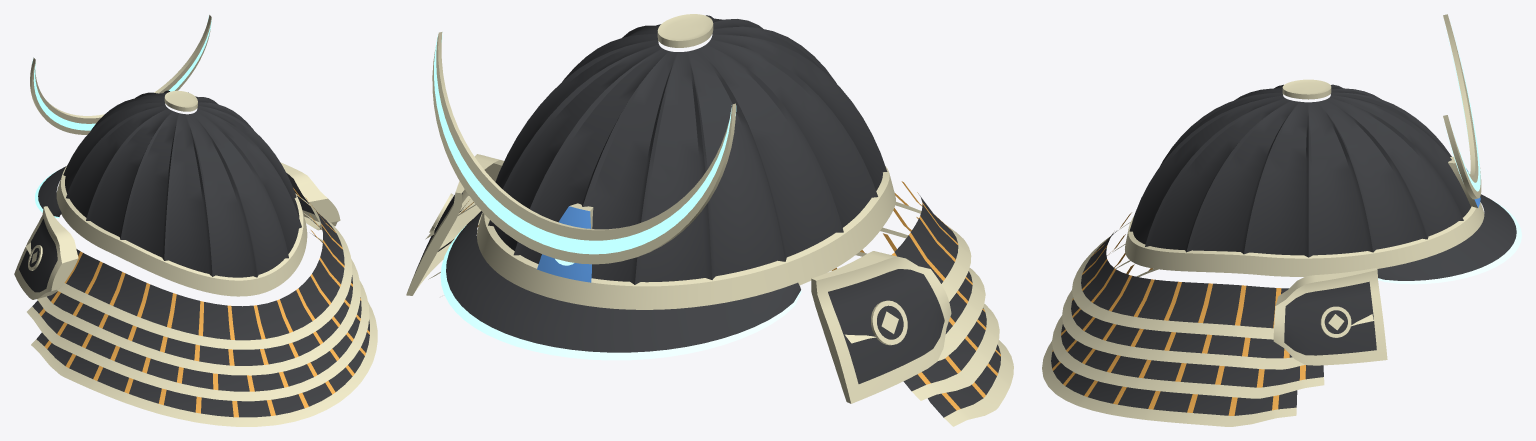
File: ronin_kabuto_m.glb
3 renders of one model, left to right at view 1: azimuth 30°, elevation 25°; view 2: azimuth 150°, elevation 25°; view 3: azimuth 270°, elevation 25°, orthographic. The views are drawn at different scales.
Parts seen in each view (by area): view 1: ronin_kabuto_shikoro, ronin_kabuto_bowl, ronin_kabuto_band, ronin_kabuto_wings, ronin_kabuto_crest, ronin_kabuto_peak; view 2: ronin_kabuto_bowl, ronin_kabuto_peak, ronin_kabuto_wings, ronin_kabuto_crest, ronin_kabuto_shikoro, ronin_kabuto_band; view 3: ronin_kabuto_bowl, ronin_kabuto_shikoro, ronin_kabuto_wings, ronin_kabuto_band, ronin_kabuto_peak, ronin_kabuto_crest.
Boxes of the visible parts, x1,y1,x2,y2 form: ronin_kabuto_shikoro: (25,187,377,426); ronin_kabuto_bowl: (63,90,301,277); ronin_kabuto_band: (56,166,307,296); ronin_kabuto_wings: (14,162,340,299); ronin_kabuto_crest: (30,15,211,134); ronin_kabuto_peak: (35,166,66,218); ronin_kabuto_bowl: (488,14,887,284); ronin_kabuto_peak: (440,211,801,360); ronin_kabuto_wings: (406,154,951,403); ronin_kabuto_crest: (432,32,736,282); ronin_kabuto_shikoro: (425,181,1013,426); ronin_kabuto_band: (477,166,895,309); ronin_kabuto_bowl: (1129,79,1471,257); ronin_kabuto_shikoro: (1042,212,1373,426); ronin_kabuto_wings: (1273,268,1387,365); ronin_kabuto_band: (1125,202,1484,276); ronin_kabuto_peak: (1377,194,1521,284); ronin_kabuto_crest: (1443,14,1481,207).
Bounding box in the file's own units: 0.3074 × 0.2451 × 0.3507.
